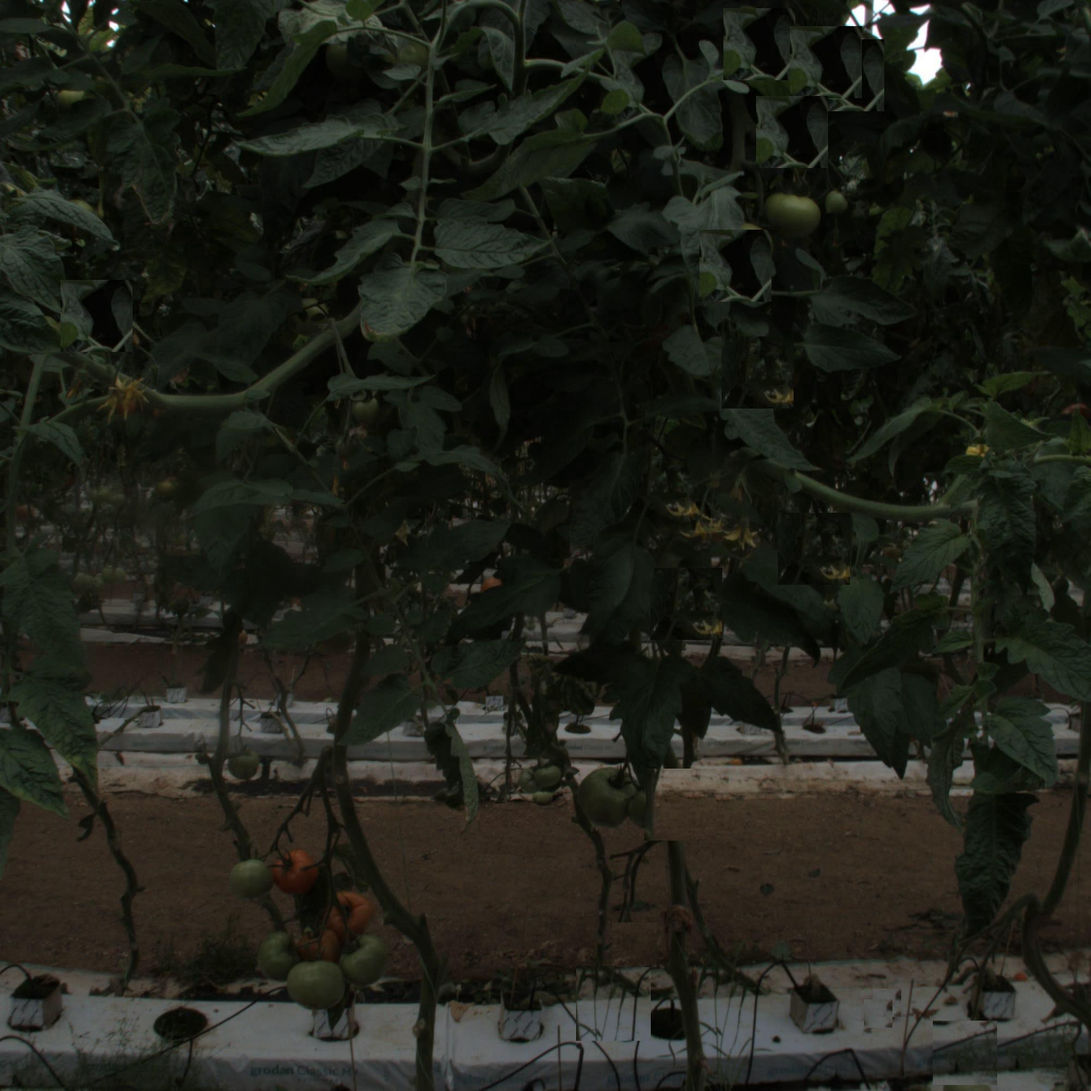fully-ripe: (326, 888, 376, 938), (270, 848, 320, 898)
unripe: (578, 763, 642, 828), (765, 183, 822, 239), (290, 954, 345, 1008), (339, 934, 383, 979), (255, 931, 299, 976), (226, 859, 271, 903)
